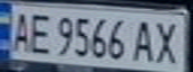5: (69, 13, 93, 60)
6: (106, 16, 130, 62), (90, 15, 112, 60)
9: (51, 11, 75, 57)
A: (130, 16, 160, 64), (6, 8, 36, 54)
E: (24, 9, 54, 55)
X: (151, 17, 187, 65)
